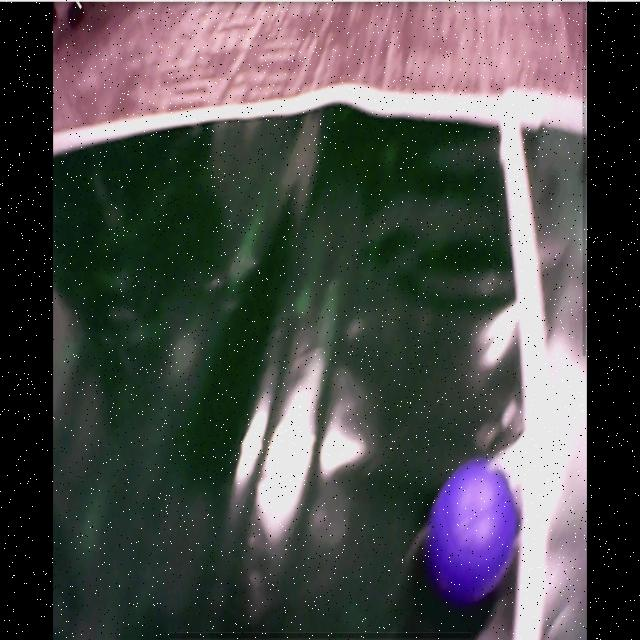ball: (430, 461, 520, 599)
